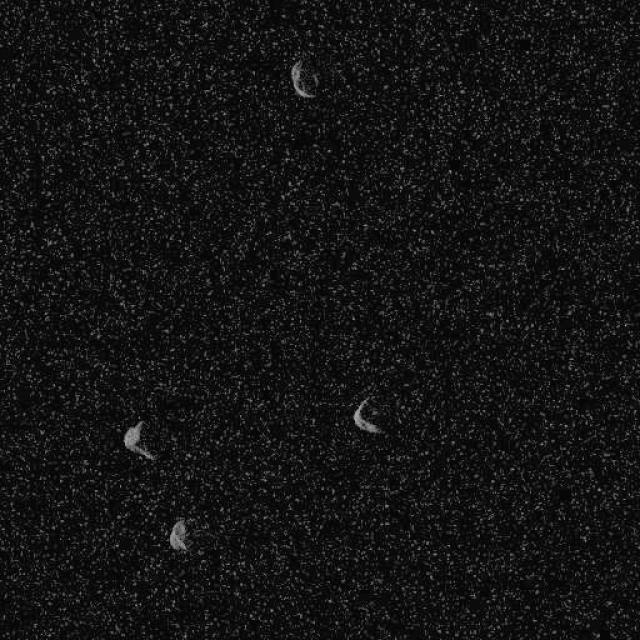D2: (121, 419, 155, 461), (351, 394, 385, 435), (289, 58, 320, 98), (168, 516, 188, 552)
